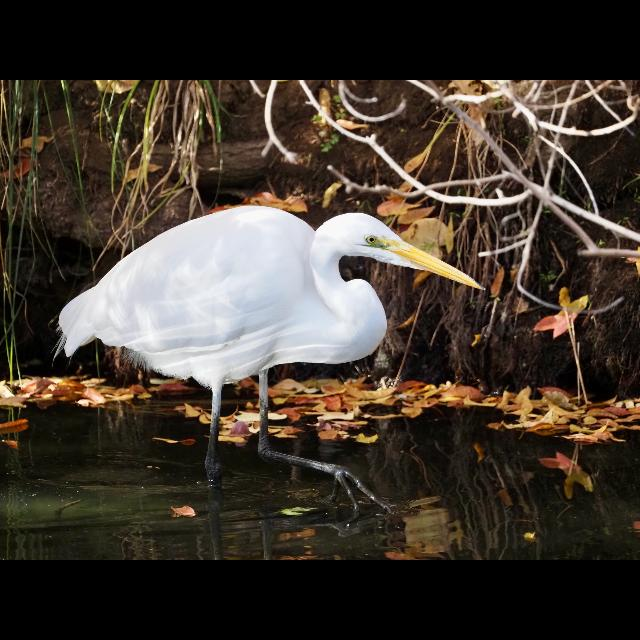egret: (58, 205, 480, 488)
